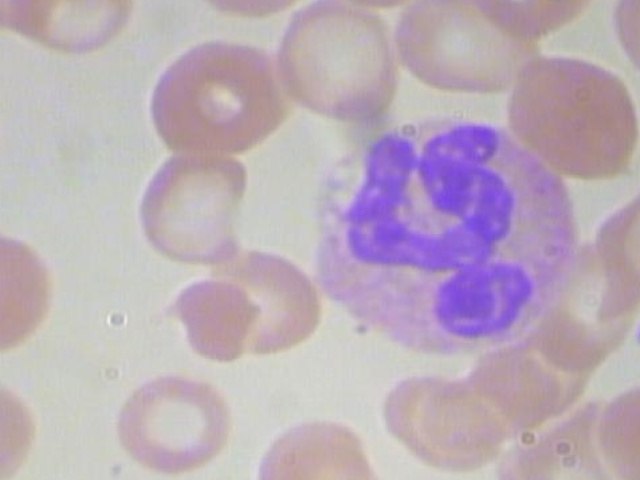Platelets: (629, 313, 640, 350)
RBC: (141, 30, 297, 160), (492, 50, 640, 181), (384, 0, 544, 105), (202, 231, 327, 363), (125, 134, 249, 266), (102, 363, 243, 478), (270, 0, 403, 119), (248, 403, 382, 480), (1, 0, 141, 67), (164, 275, 258, 369), (588, 384, 640, 480), (0, 363, 39, 480), (604, 0, 640, 87), (185, 0, 321, 20), (0, 67, 6, 197)
WBC: (310, 110, 585, 356)
